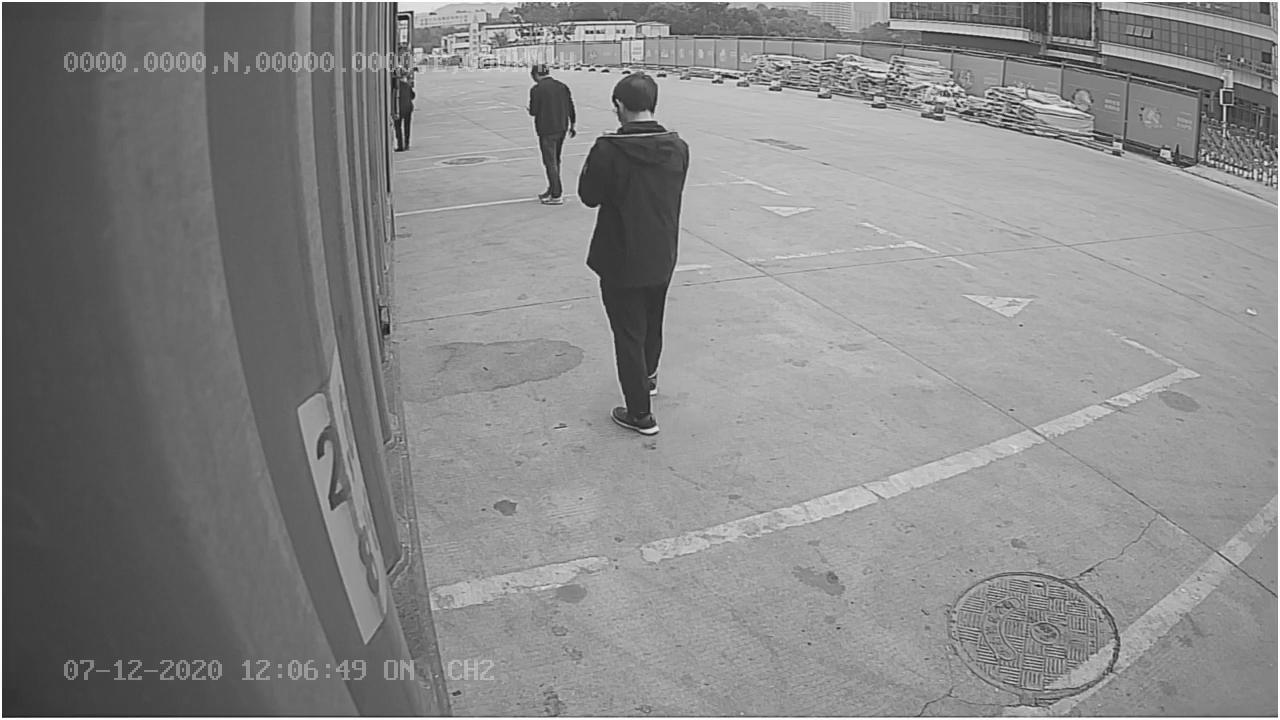person: (579, 64, 691, 441)
